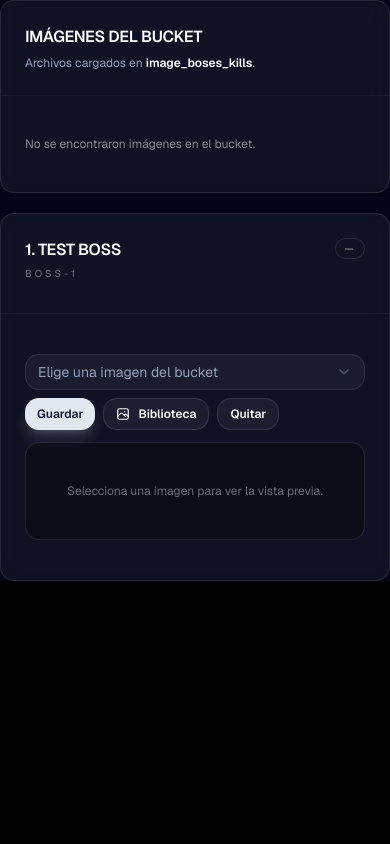
Test case: KillImagesSettingsClient — MediaPicker integration › opens MediaPicker scoped to image_boses_kills when Biblioteca is clicked
The image size is (390, 844).
Click the button "Biblioteca" at (156, 414), box [103,398,209,430]
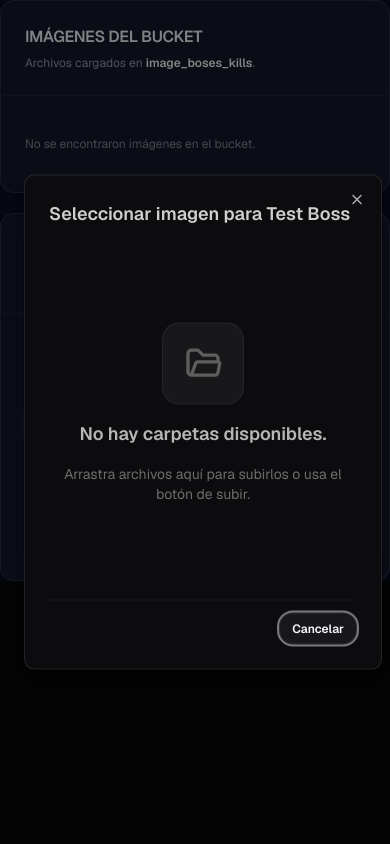
Now the heading "Seleccionar imagen para Test Boss" is shown, box [49,200,350,228]
